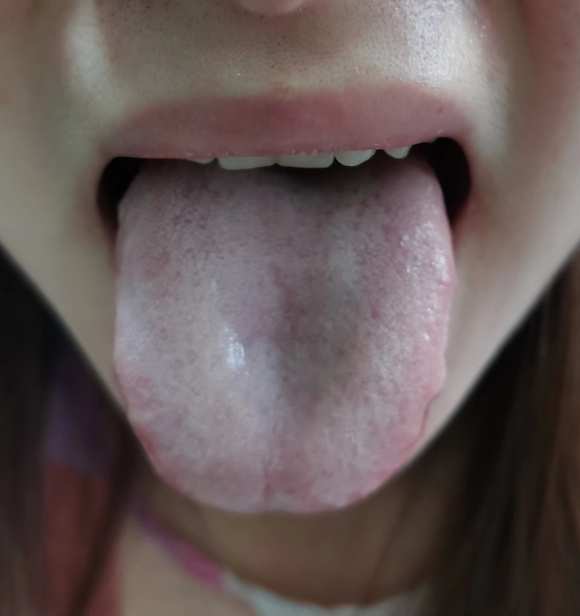baitaishe: (116, 158, 455, 515)
